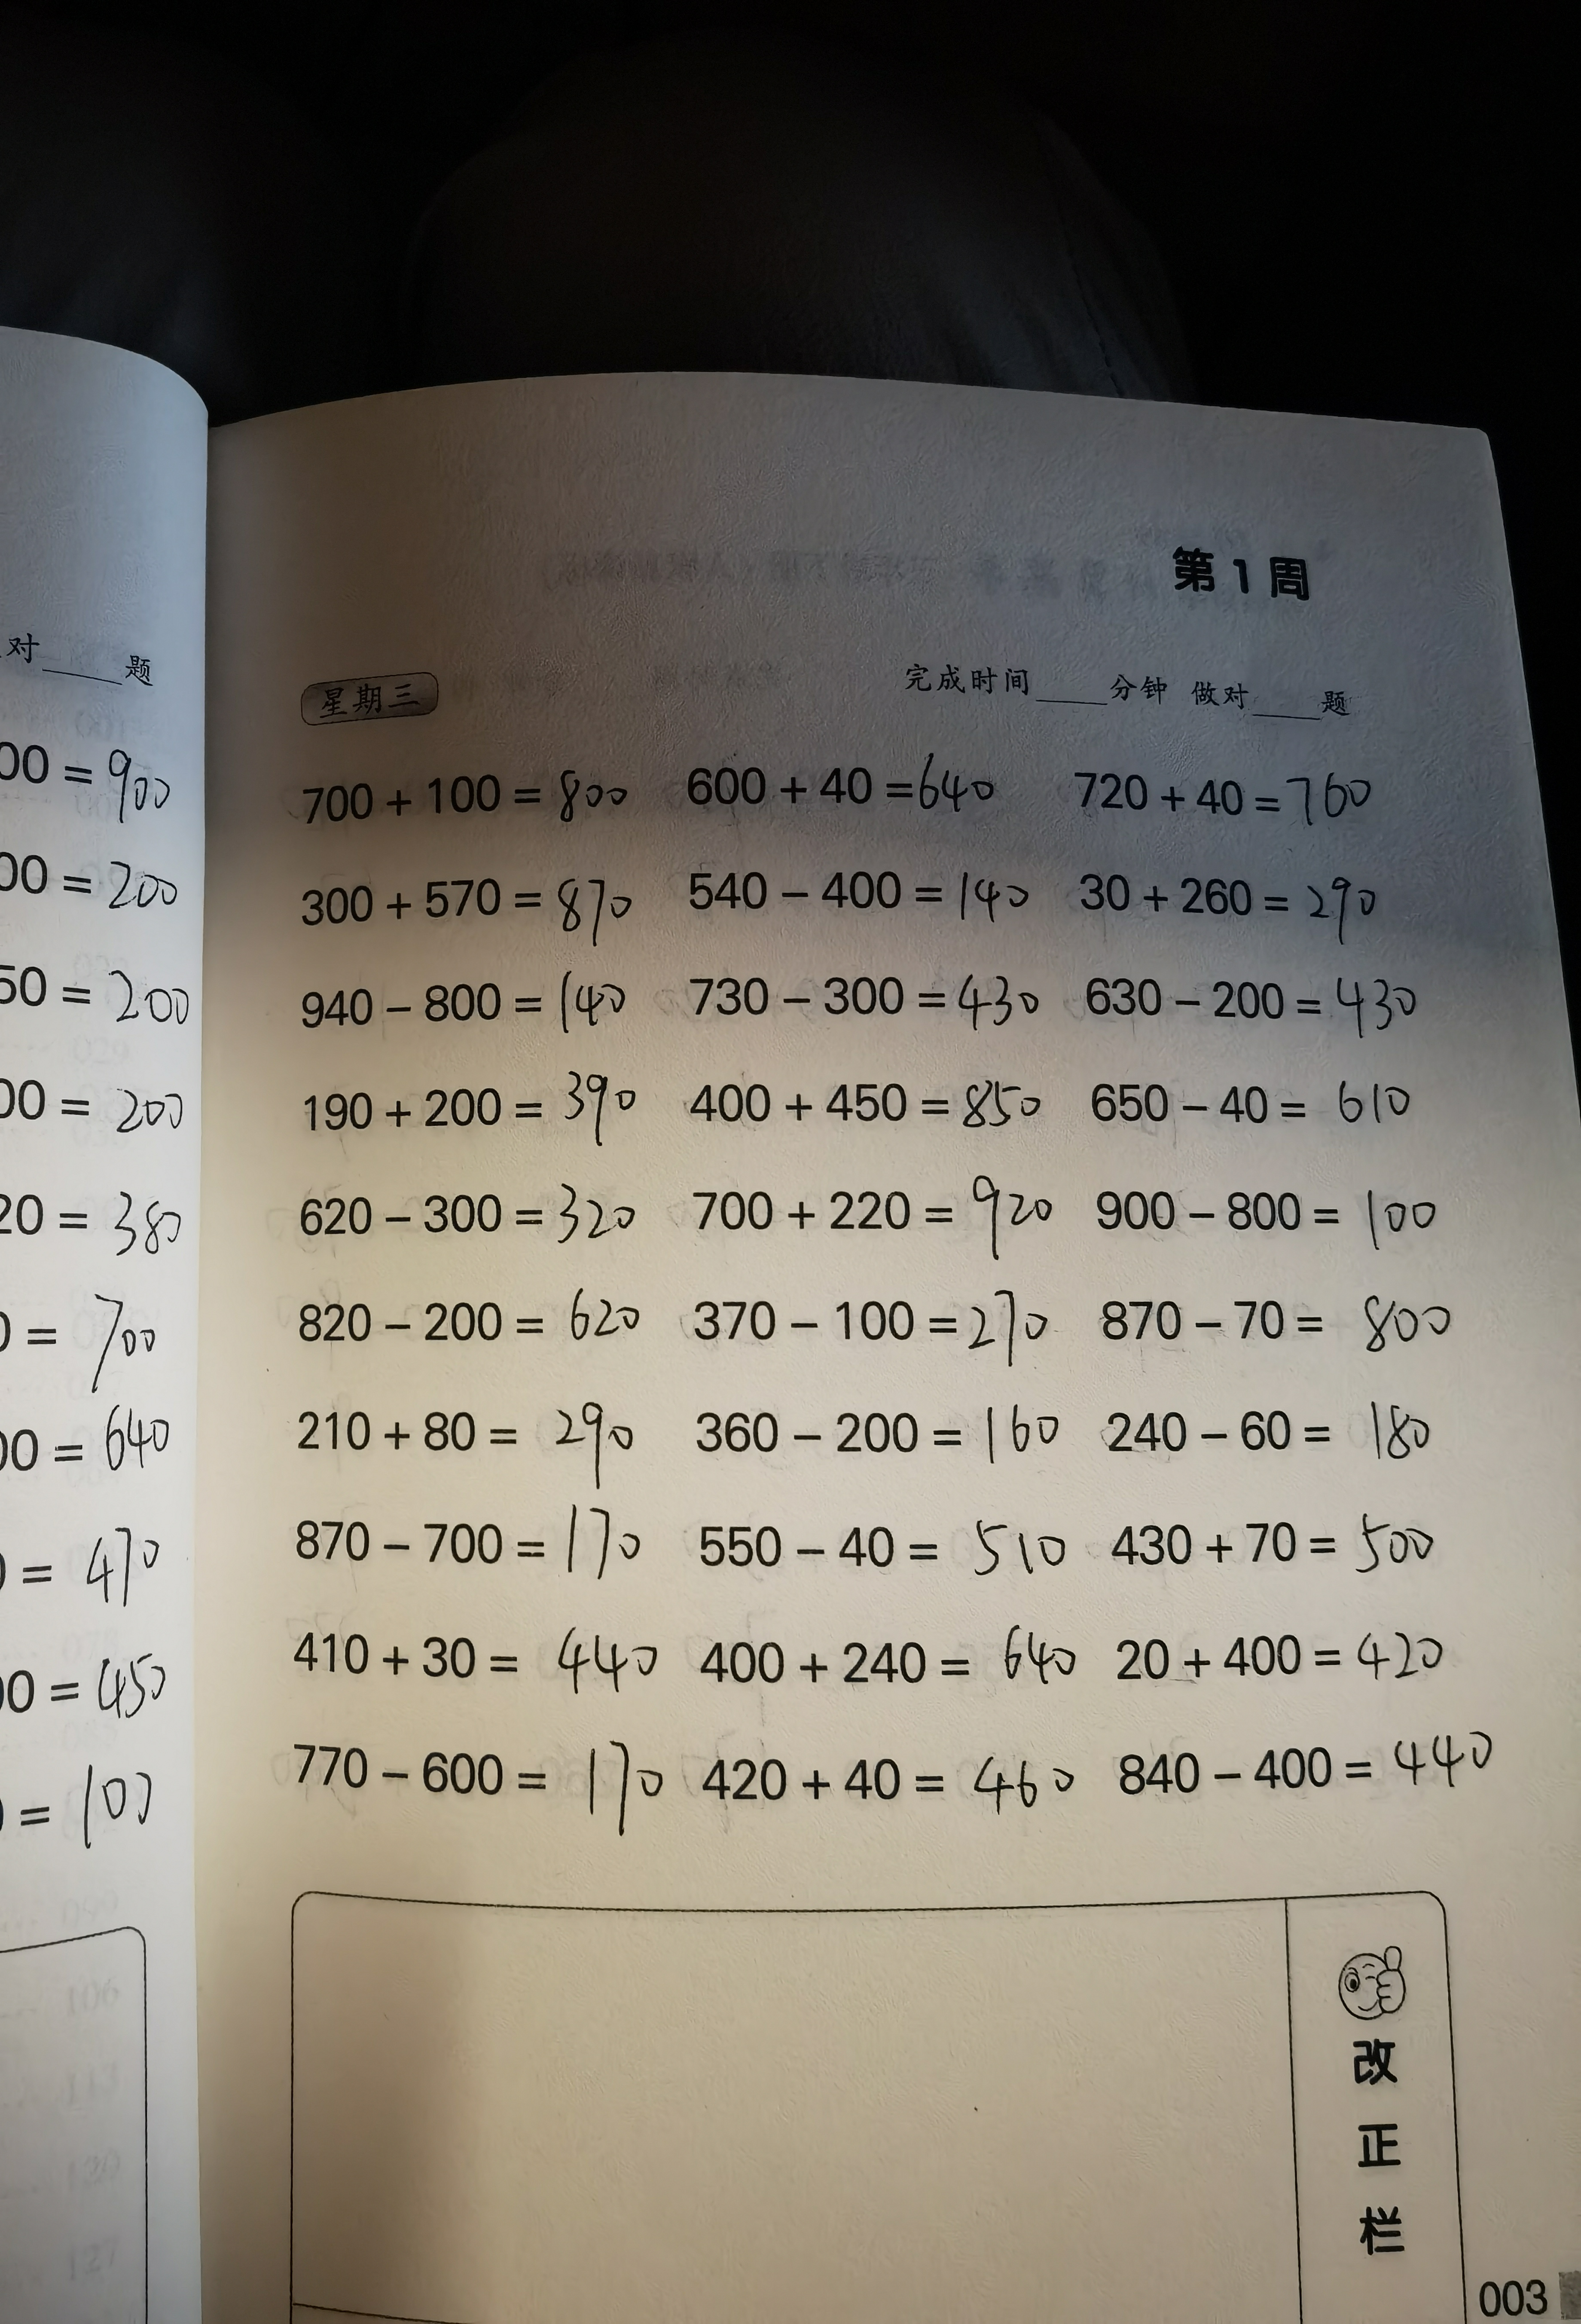equation: (288, 1728, 676, 1839), (690, 1731, 1094, 1835), (690, 948, 1052, 1059), (293, 1611, 671, 1713), (1080, 956, 1468, 1053), (273, 752, 649, 849), (1117, 1615, 1473, 1712), (683, 852, 1045, 948), (291, 1385, 642, 1481), (676, 1503, 1082, 1585), (701, 1613, 1098, 1696), (1075, 852, 1401, 953), (693, 1173, 1062, 1262), (672, 745, 1016, 838), (683, 1071, 1053, 1158), (688, 1279, 1050, 1368), (284, 1503, 644, 1590), (293, 866, 667, 949), (284, 971, 667, 1050), (1115, 1509, 1456, 1597), (1076, 1071, 1426, 1156), (1106, 1392, 1454, 1477), (261, 1188, 671, 1258), (1110, 1736, 1519, 1807), (1087, 1285, 1454, 1362), (1057, 761, 1390, 845), (288, 1073, 644, 1149), (270, 1292, 653, 1362), (1092, 1173, 1456, 1246), (695, 1408, 1071, 1473)
